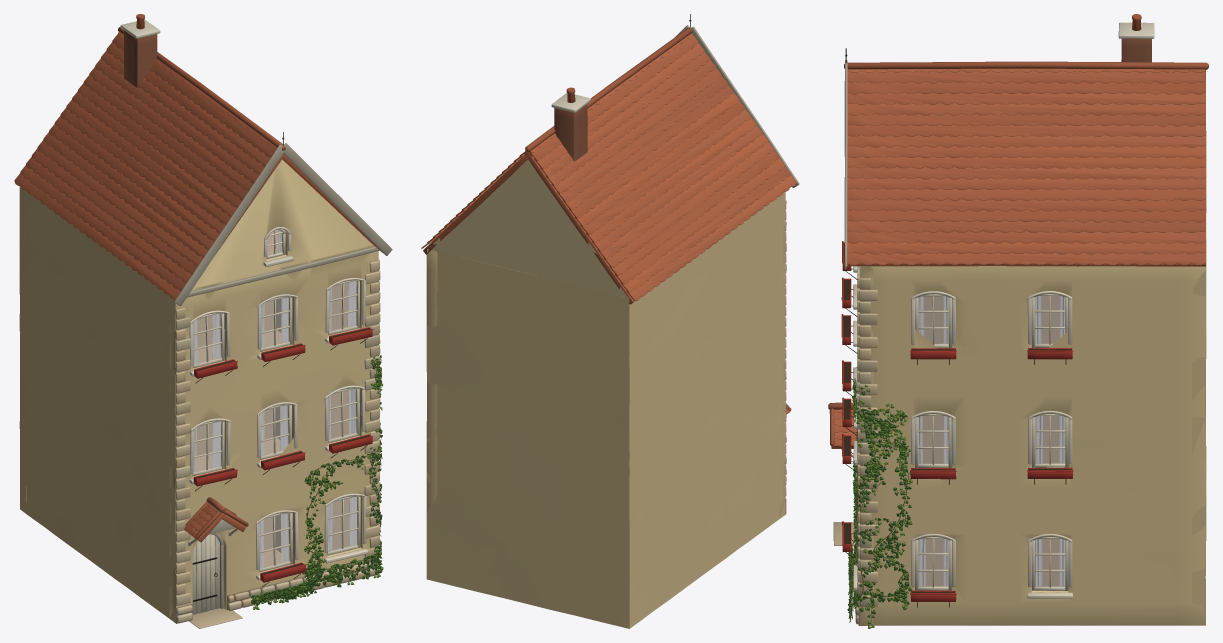
Rendered from GateStreet_Bend2.glb.
The picture shows the model from 3 angles, left to right: view 1: azimuth 30°, elevation 25°; view 2: azimuth 150°, elevation 25°; view 3: azimuth 270°, elevation 25°; orthographic projection. The views are drawn at different scales.
Visible parts, largest first — view 1: Sammel Putz, Sammel Stein, Sammel Lack, Glas, Sammel Putz innen, Sammel Pflanze, Vorhang Leinen, Sammel Ziegel; view 2: Sammel Putz, Sammel Stein, Sammel Ziegel, Sammel Lack; view 3: Sammel Putz, Sammel Stein, Sammel Lack, Glas, Sammel Pflanze, Sammel Putz innen, Vorhang Leinen, Sammel Ziegel.
Part boxes in pixels (x1=…): Sammel Putz: x1=19, y1=14, x2=381, y2=623; Sammel Stein: x1=14, y1=26, x2=383, y2=628; Sammel Lack: x1=174, y1=143, x2=392, y2=615; Glas: x1=193, y1=230, x2=357, y2=568; Sammel Putz innen: x1=196, y1=230, x2=349, y2=566; Sammel Pflanze: x1=251, y1=355, x2=383, y2=609; Vorhang Leinen: x1=193, y1=230, x2=356, y2=567; Sammel Ziegel: x1=124, y1=30, x2=157, y2=87; Sammel Putz: x1=426, y1=87, x2=786, y2=628; Sammel Stein: x1=421, y1=27, x2=796, y2=495; Sammel Ziegel: x1=554, y1=104, x2=587, y2=161; Sammel Lack: x1=675, y1=25, x2=799, y2=187; Sammel Putz: x1=843, y1=14, x2=1206, y2=625; Sammel Stein: x1=828, y1=61, x2=1208, y2=624; Sammel Lack: x1=841, y1=60, x2=1073, y2=601; Glas: x1=918, y1=296, x2=1064, y2=586; Sammel Pflanze: x1=847, y1=378, x2=912, y2=628; Sammel Putz innen: x1=923, y1=296, x2=1059, y2=586; Vorhang Leinen: x1=918, y1=296, x2=1065, y2=586; Sammel Ziegel: x1=1121, y1=38, x2=1151, y2=62.
Bounding box in the file's own units: 6.64 × 14.05 × 8.8.
